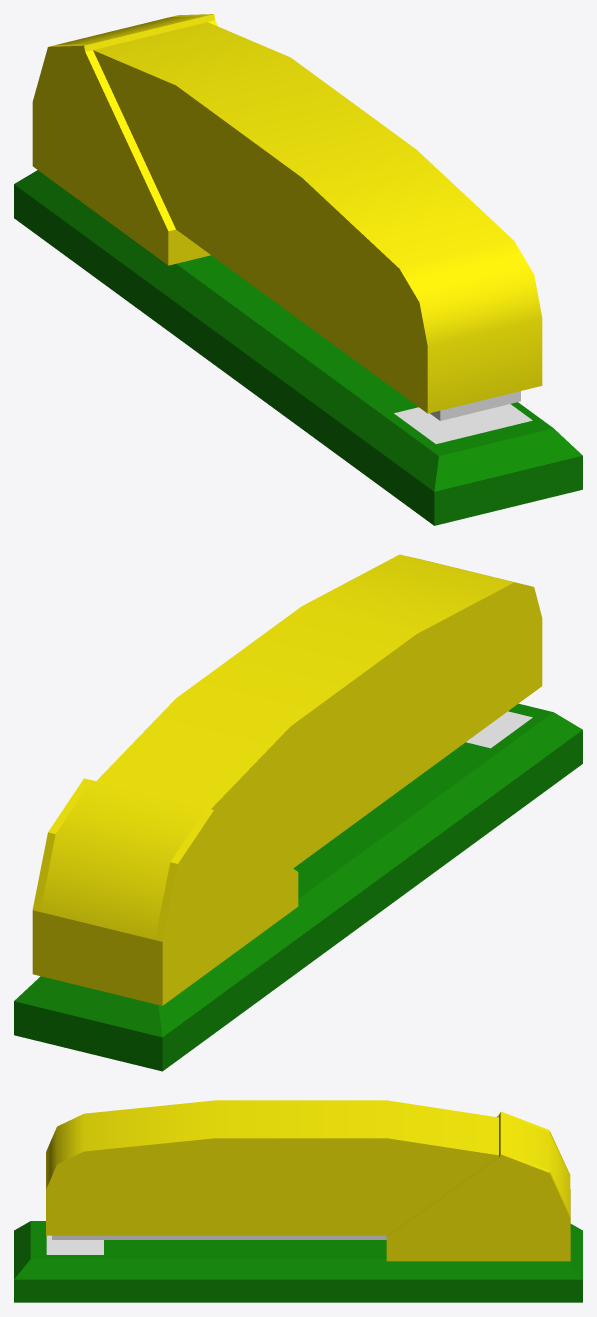
File: Stapler.fbx
3 views of the same model, one above another, from view 1: azimuth 30°, elevation 25°; view 2: azimuth 150°, elevation 25°; view 3: azimuth 270°, elevation 25° (orthographic). The views are drawn at different scales.
Visible parts, largest first — view 1: Stapler; view 2: Stapler; view 3: Stapler.
Part boxes in pixels (x1,y1,x2,y2): Stapler: (14,14,582,525); Stapler: (14,554,582,1071); Stapler: (14,1100,582,1302).
Bounding box in the file's own units: 0.0468 × 0.0706 × 0.2291.
